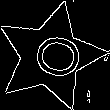O_W: (20, 29, 81, 83)
